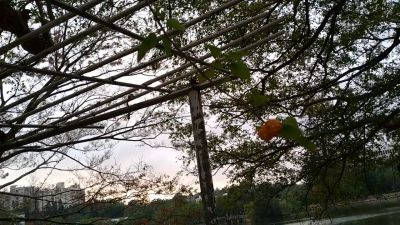eggs: (258, 118, 283, 141)
